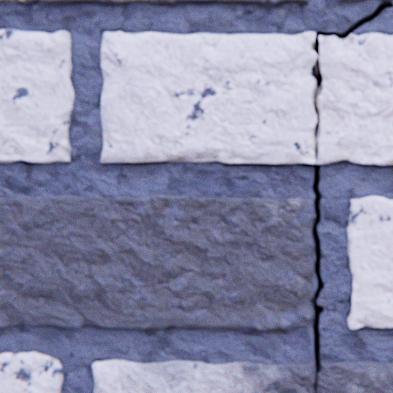brick: (0, 195, 315, 330), (0, 30, 75, 163), (347, 196, 392, 328), (0, 351, 63, 392), (0, 0, 308, 6), (340, 0, 364, 2)
broken_brick: (102, 32, 316, 163), (94, 359, 392, 392), (318, 34, 392, 165)
crack: (310, 1, 392, 391)
